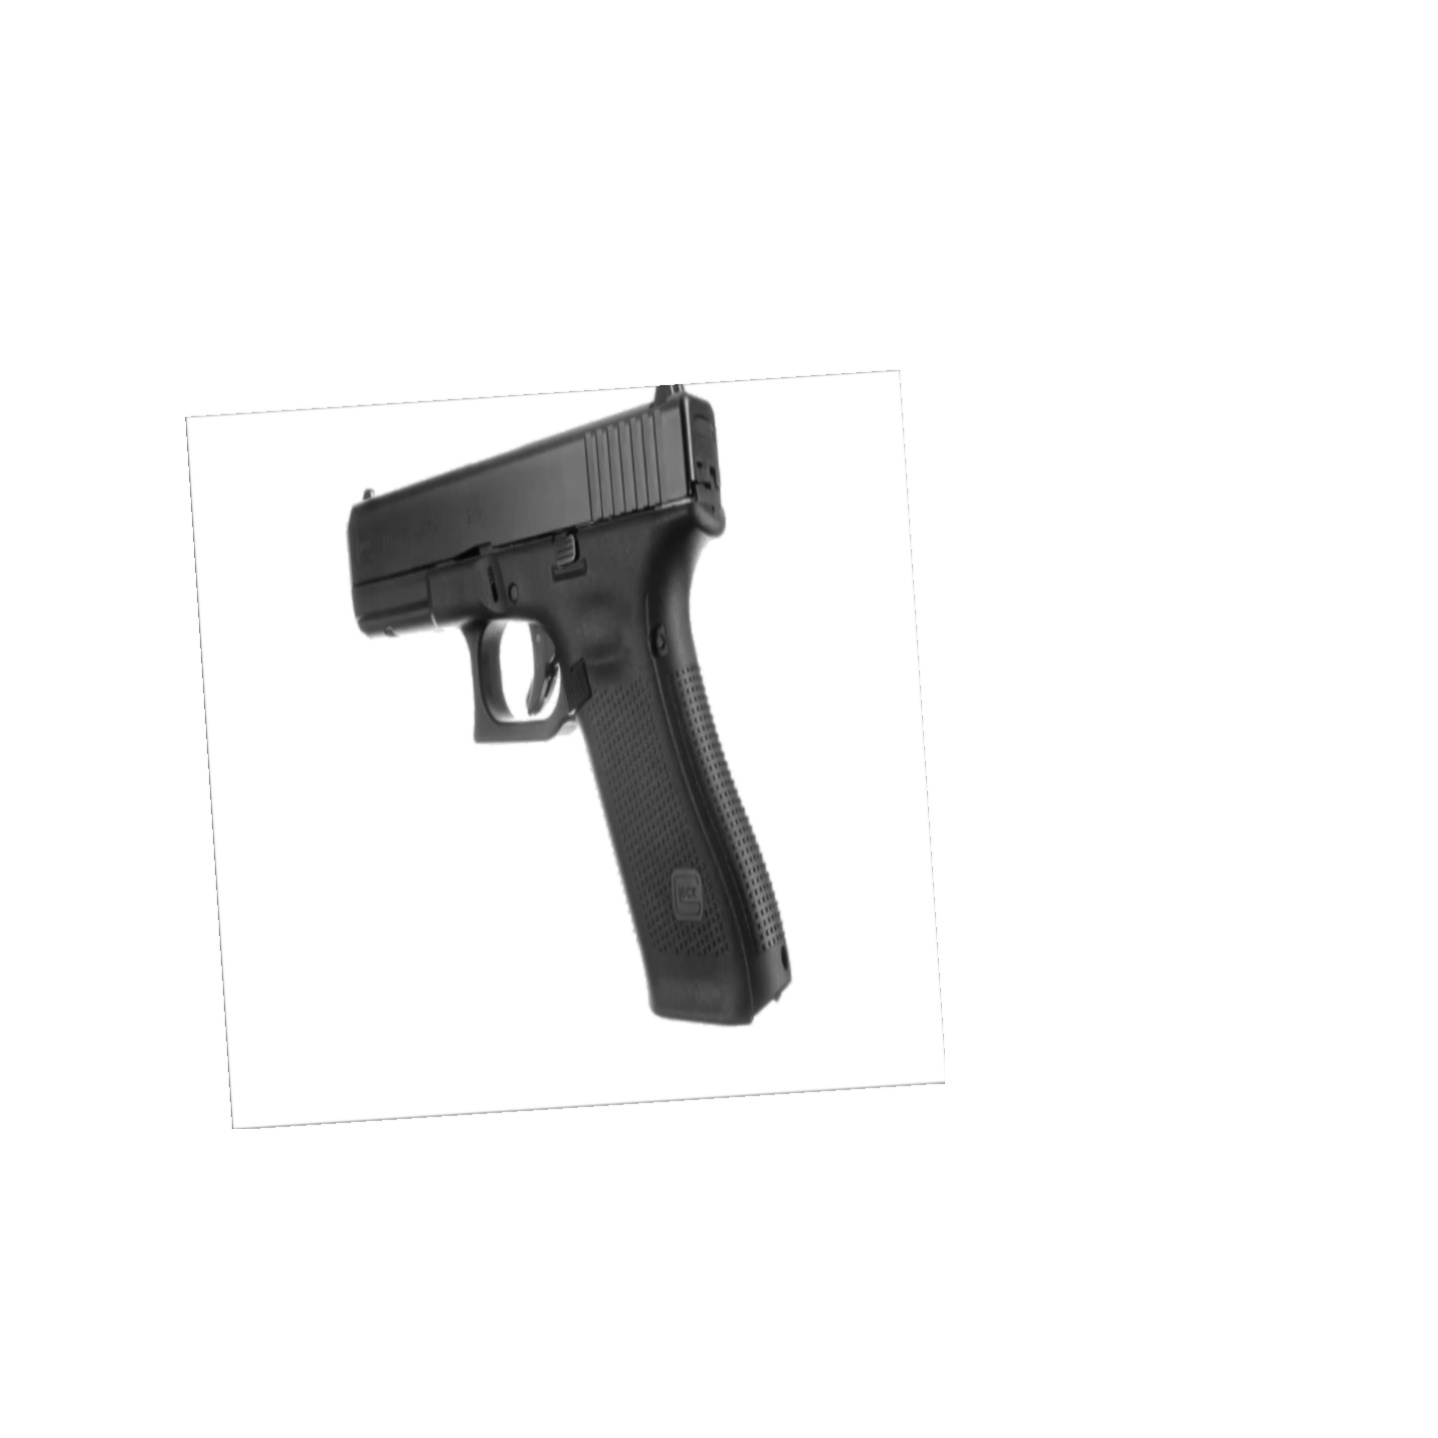gun: (307, 379, 805, 1046)
